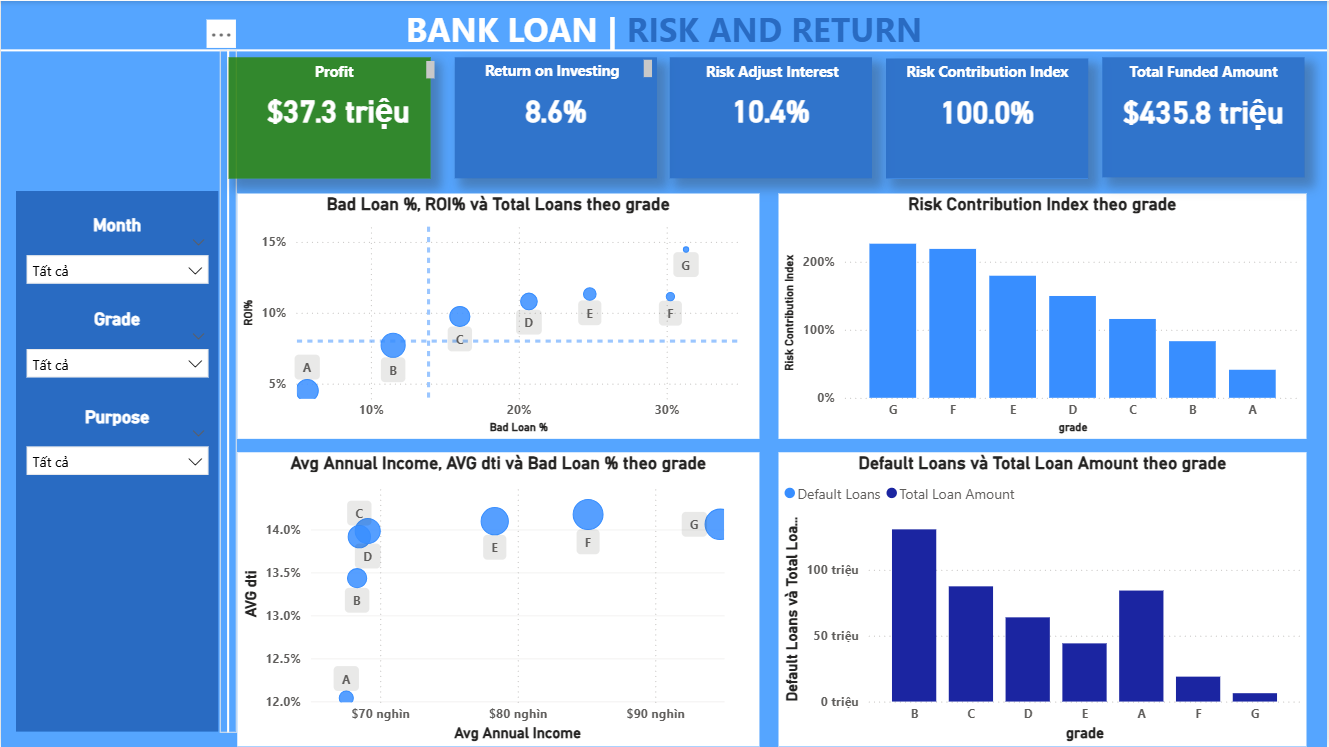

This screenshot's page, from the dashboard's own definition file:
{"tool":"powerbi","page":{"name":"Risk and Return","canvas":[1280,720],"ordinal":2},"visuals":[{"type":"textbox","box":[0,0,1280,86.9],"z":0},{"type":"shape","box":[0,39.8,1280,15.7],"z":1000},{"type":"shape","box":[211.6,47.2,16.2,659],"z":2000},{"type":"shape","box":[219.7,53.9,195.4,117.2],"z":3000},{"type":"card","fields":{"Values":["Measure.Profit"]},"box":[227.5,80,195.4,50.7],"z":4000},{"type":"textbox","box":[227.5,53.5,195.4,31.4],"z":5000},{"type":"shape","box":[437.4,54.7,195.4,117],"z":6000},{"type":"card","fields":{"Values":["Measure.ROI%"]},"box":[437.4,80,195.4,50.7],"z":7000},{"type":"textbox","box":[437.4,52.2,195.4,32.6],"z":8000},{"type":"shape","box":[645.6,54.4,195.4,117],"z":9000},{"type":"card","fields":{"Values":["Measure.Risk Adjusted Interest"]},"box":[645.6,79.8,195.4,50.7],"z":10000},{"type":"textbox","box":[646.2,53.6,195.4,32.6],"z":11000},{"type":"shape","box":[854.4,55.3,195.4,115.9],"z":12000},{"type":"card","fields":{"Values":["Measure.Risk Contribution Index"]},"box":[854.7,81.3,195.4,50.7],"z":13000},{"type":"textbox","box":[854.7,53.6,195.4,32.6],"z":14000},{"type":"scatterChart","fields":{"X":["Measure.Bad Loan %"],"Y":["Measure.ROI%"],"Size":["Measure.Total Loans"],"Category":["financial_loan.grade"]},"box":[227.8,186,504,237.2],"z":15000},{"type":"clusteredColumnChart","fields":{"Category":["financial_loan.grade"],"Y":["Measure.Risk Contribution Index"]},"box":[750.6,186,509.4,237.2],"z":16000},{"type":"columnChart","fields":{"Y":["Measure.Default Loans","Measure.Total Loan Amount"],"Category":["financial_loan.grade"]},"box":[750.6,435.3,509.4,284.4],"z":17000},{"type":"scatterChart","fields":{"X":["Measure.Avg Annual Income"],"Y":["Measure.AVG dti"],"Size":["Measure.Bad Loan %"],"Category":["financial_loan.grade"]},"box":[227.8,435.3,504,284.4],"z":18000},{"type":"shape","box":[1062.8,54.5,195.4,115.9],"z":19000},{"type":"card","fields":{"Values":["Measure.Total Loan Amount"]},"box":[1063.1,80.5,195.4,50.7],"z":20000},{"type":"textbox","box":[1063.1,52.8,195.4,32.6],"z":21000},{"type":"shape","box":[14.8,183.3,195.4,521.5],"z":21001},{"type":"slicer","title":"Grade","fields":{"Values":["financial_loan.home_ownership"]},"box":[14.8,296.5,195.4,80.9],"z":21002},{"type":"slicer","title":"Purpose","fields":{"Values":["financial_loan.purpose"]},"box":[14.8,390.8,195.4,80.9],"z":21003},{"type":"slicer","title":"Month","fields":{"Values":["Calendar.Month"]},"box":[14.8,206.2,195.4,80.9],"z":21004}]}

Visuals, with their boxes in screenshot pixels (x1, y1, x2, y2), scaled from the page's 1280x720 canvas onto the 1329x747 screenshot:
textbox: 0, 0, 1328, 90
shape: 0, 41, 1328, 58
shape: 220, 49, 237, 733
shape: 228, 56, 431, 178
card - Measure.Profit: 236, 83, 439, 136
textbox: 236, 56, 439, 88
shape: 454, 57, 657, 178
card - Measure.ROI%: 454, 83, 657, 136
textbox: 454, 54, 657, 88
shape: 670, 56, 873, 178
card - Measure.Risk Adjusted Interest: 670, 83, 873, 135
textbox: 671, 56, 874, 89
shape: 887, 57, 1090, 178
card - Measure.Risk Contribution Index: 887, 84, 1090, 137
textbox: 887, 56, 1090, 89
scatterChart - Measure.Bad Loan % x Measure.ROI%: 237, 193, 760, 439
clusteredColumnChart - financial_loan.grade x Measure.Risk Contribution Index: 779, 193, 1308, 439
columnChart - Measure.Default Loans x Measure.Total Loan Amount: 779, 452, 1308, 746
scatterChart - Measure.Avg Annual Income x Measure.AVG dti: 237, 452, 760, 746
shape: 1103, 57, 1306, 177
card - Measure.Total Loan Amount: 1104, 84, 1307, 136
textbox: 1104, 55, 1307, 89
shape: 15, 190, 218, 731
"Grade" slicer: 15, 308, 218, 392
"Purpose" slicer: 15, 405, 218, 489
"Month" slicer: 15, 214, 218, 298
